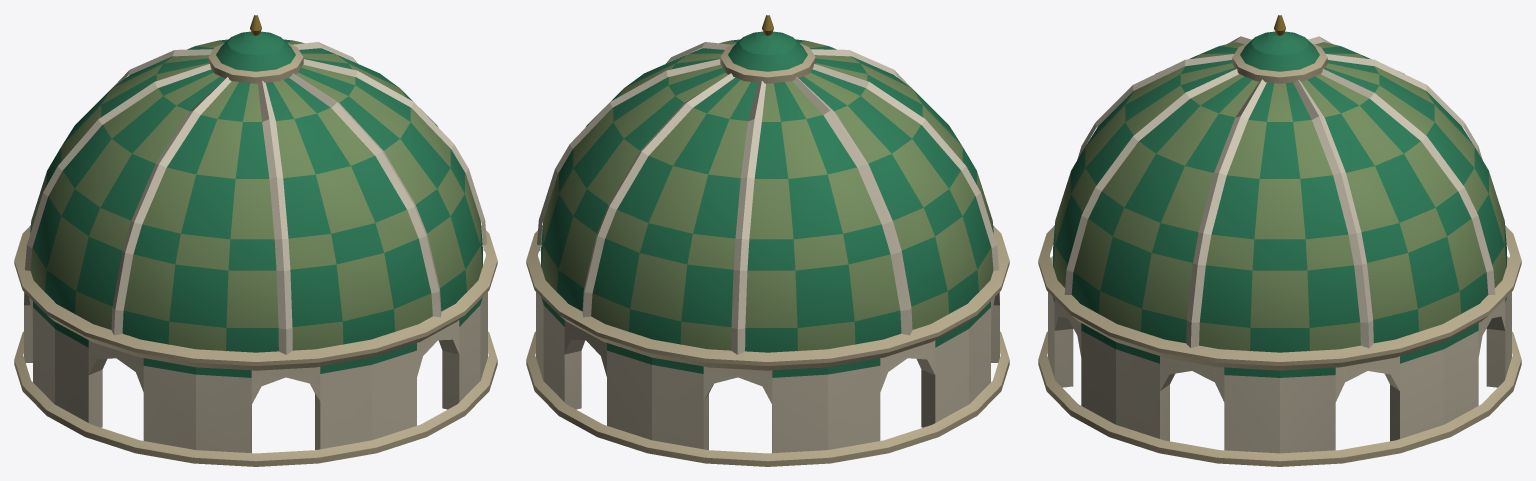
File: dome.hall_8.green.glb
The picture shows the model from 3 angles, left to right: view 1: azimuth 30°, elevation 25°; view 2: azimuth 150°, elevation 25°; view 3: azimuth 270°, elevation 25°; orthographic projection.
Visible parts, largest first — view 1: dome_hall_8_green; view 2: dome_hall_8_green; view 3: dome_hall_8_green.
Boxes of the visible parts, x1,y1,x2,y2 form: dome_hall_8_green: [14, 15, 497, 466]; dome_hall_8_green: [526, 15, 1009, 466]; dome_hall_8_green: [1038, 15, 1521, 466].
Size of what is drawn, in the model's own units: 15.2 by 12.15 by 15.2.
